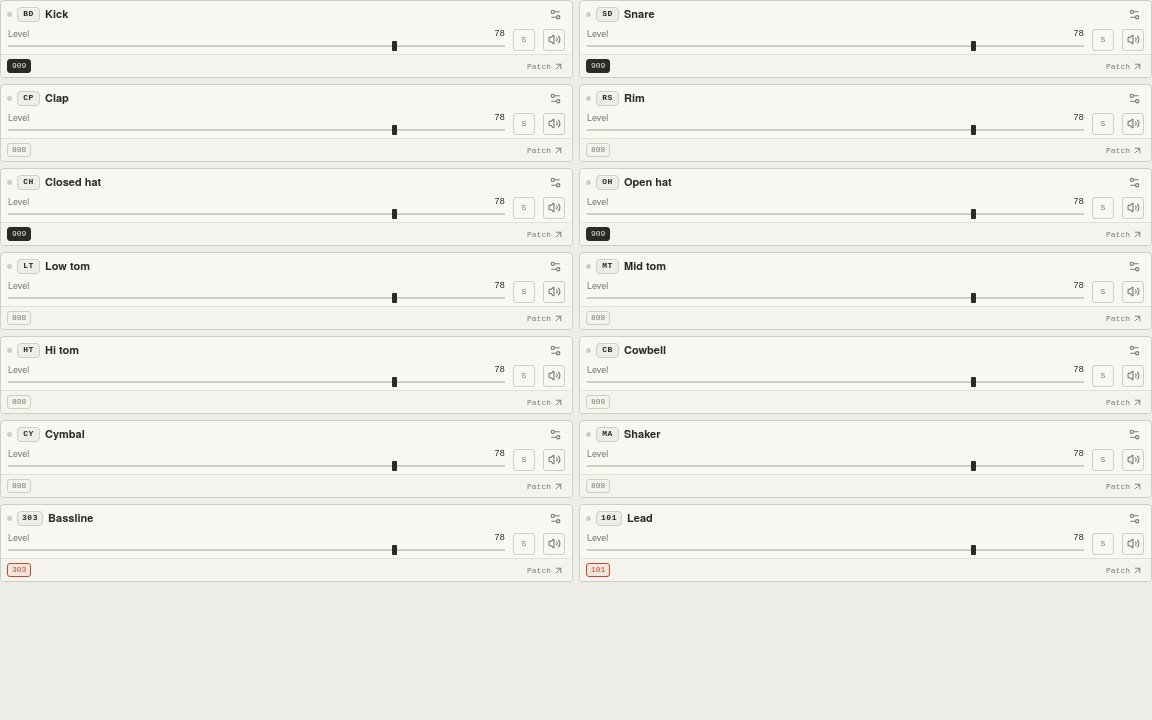
Scenario: patches a block LFO into a shared voice and exposes a cable socket
The width and height of the screenshot is (1152, 720).
Click the button with aria-label "Patch Kick voice" at [546, 66], box x1=525 y1=55 x2=566 y2=77
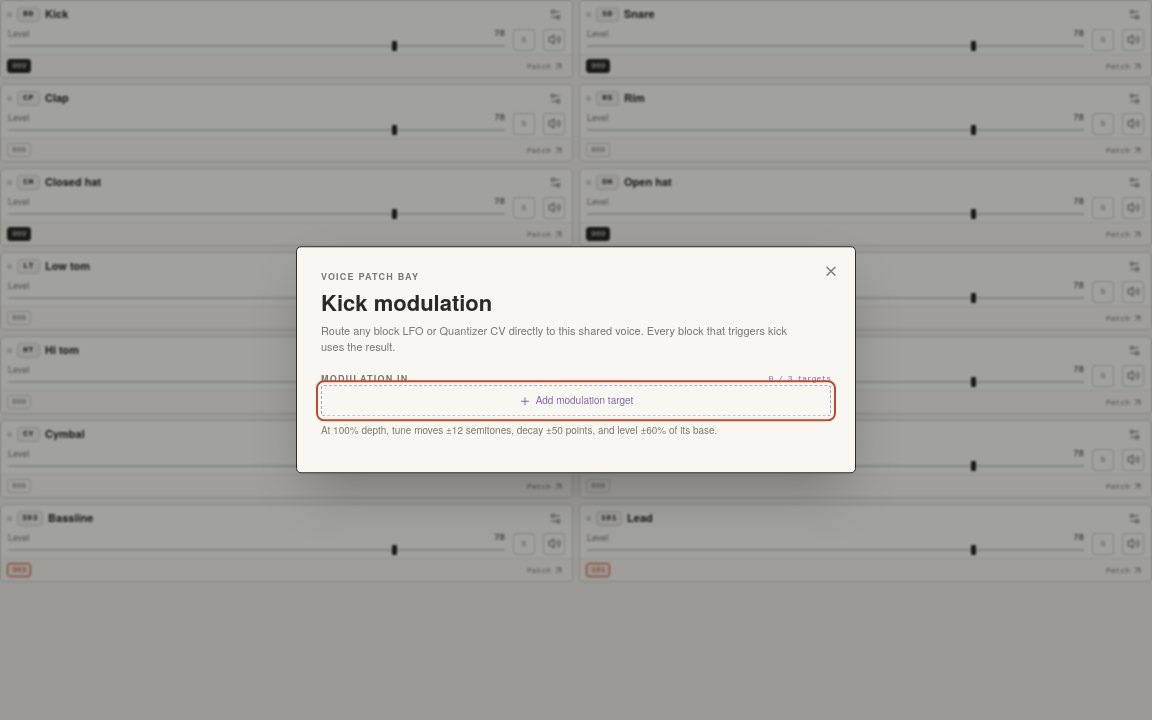
Expected: the heading "Kick modulation" is shown, x1=321 y1=286 x2=492 y2=318
Click the button "Add modulation target" at [576, 401], box x1=321 y1=385 x2=831 y2=417
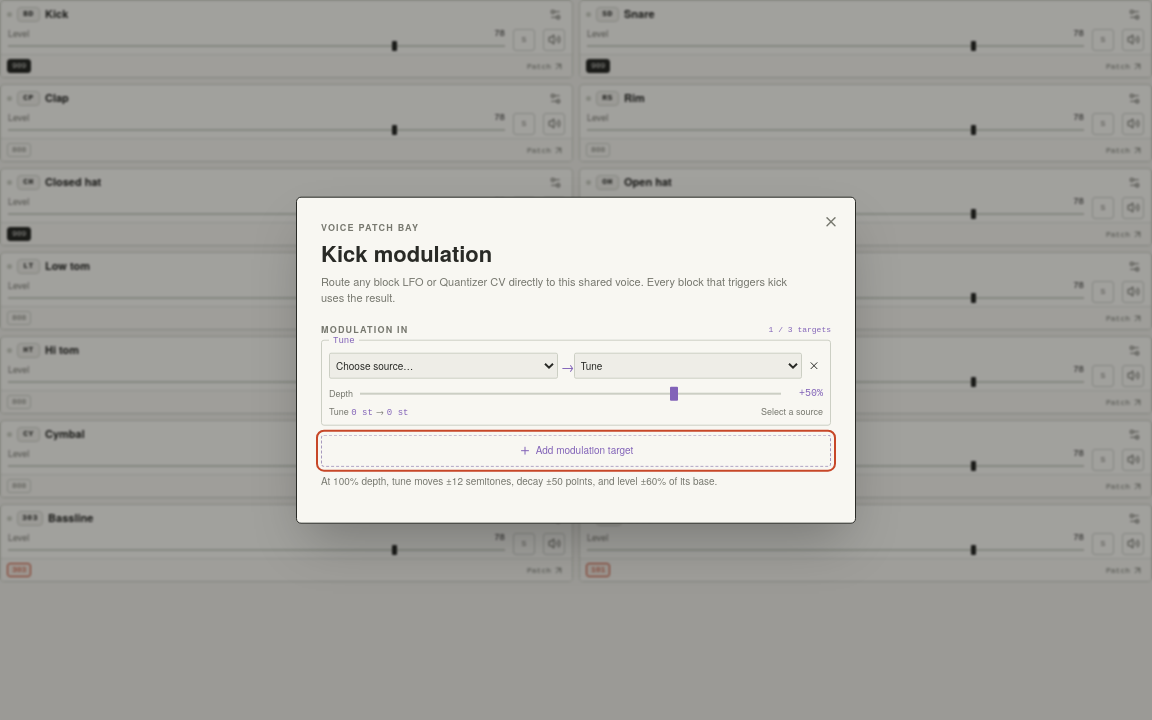
Select "13 Modulator" in the dropdown named "Modulation source for Kick Tune" at [443, 366], box x1=329 y1=353 x2=558 y2=379
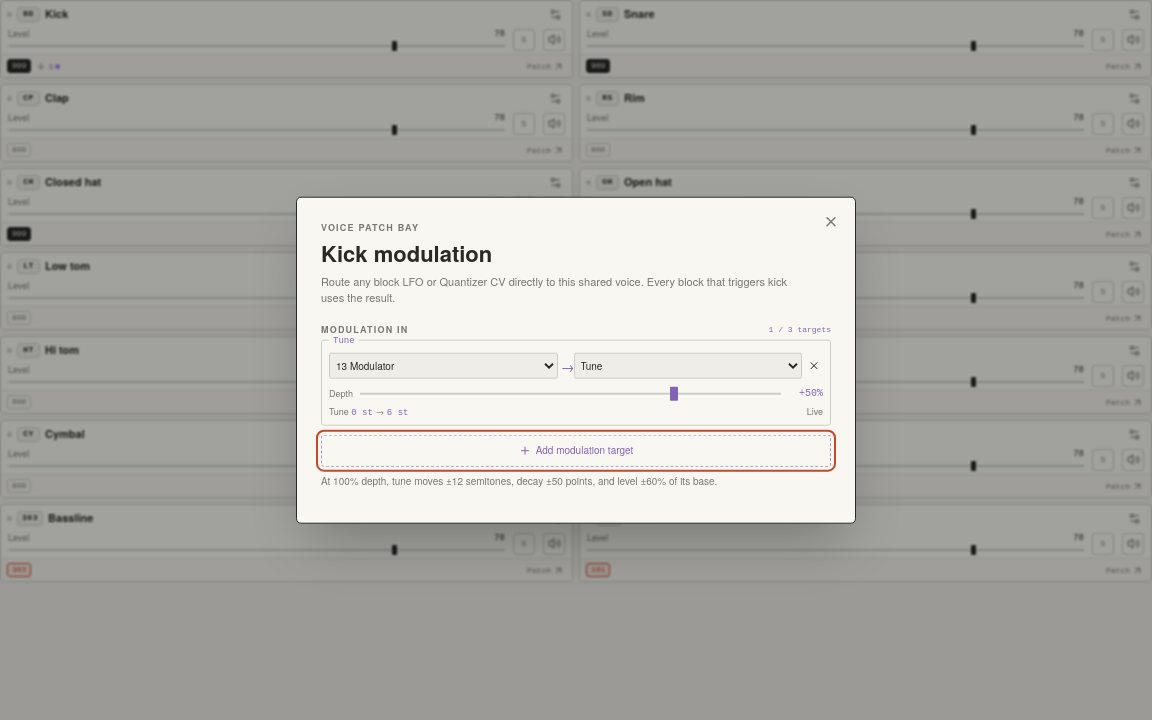
Click the button named "Close dialog" at [831, 222], box x1=823 y1=214 x2=839 y2=230
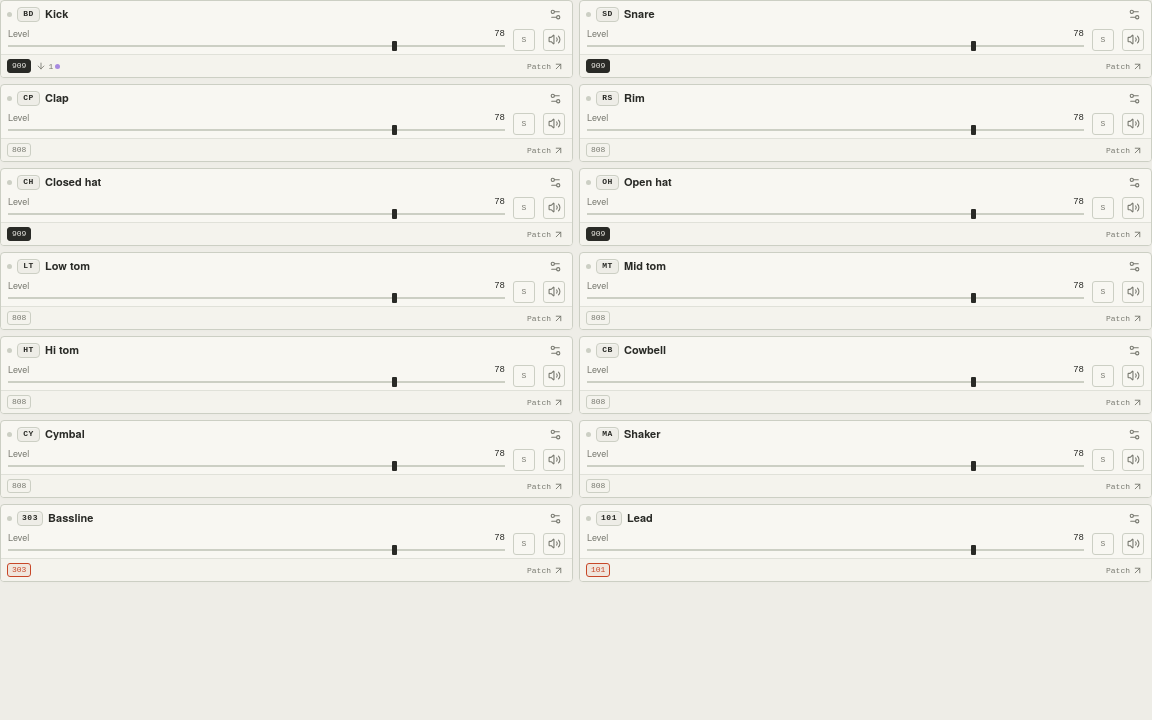
Expected: the icon named "Block 13 LFO → voice Kick Tune" is shown, x1=55 y1=64 x2=60 y2=68
Click the button named "Configure Kick voice" at [555, 14], box x1=544 y1=3 x2=566 y2=25
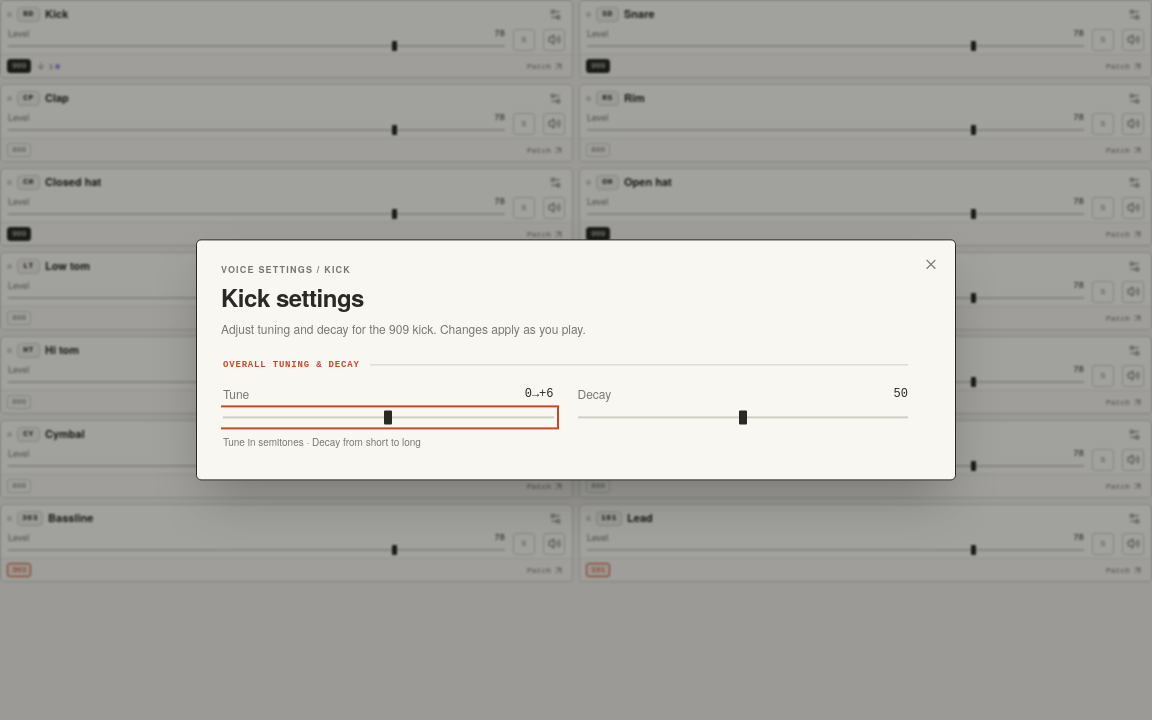
Expected: the text "0→+6" is shown, x1=525 y1=386 x2=554 y2=402
Set the slider named "Kick tune" to "-3" at [349, 417], box x1=223 y1=410 x2=554 y2=424
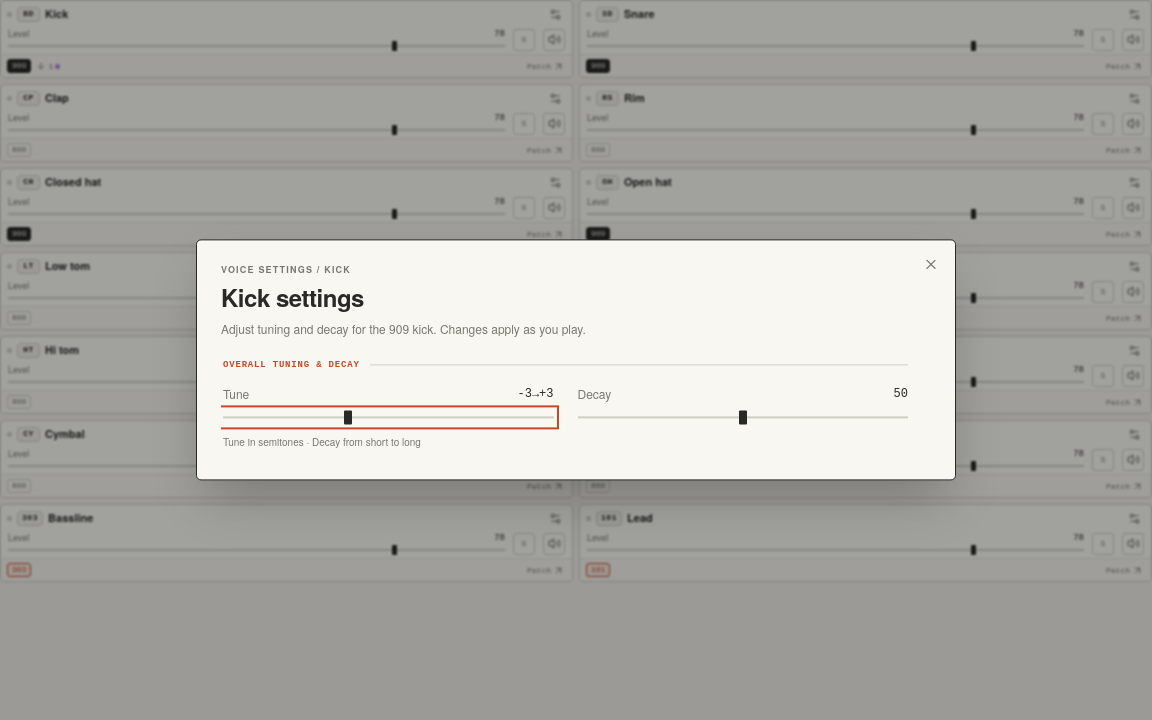
Expected: the text "-3→+3" is shown, x1=518 y1=386 x2=554 y2=402
